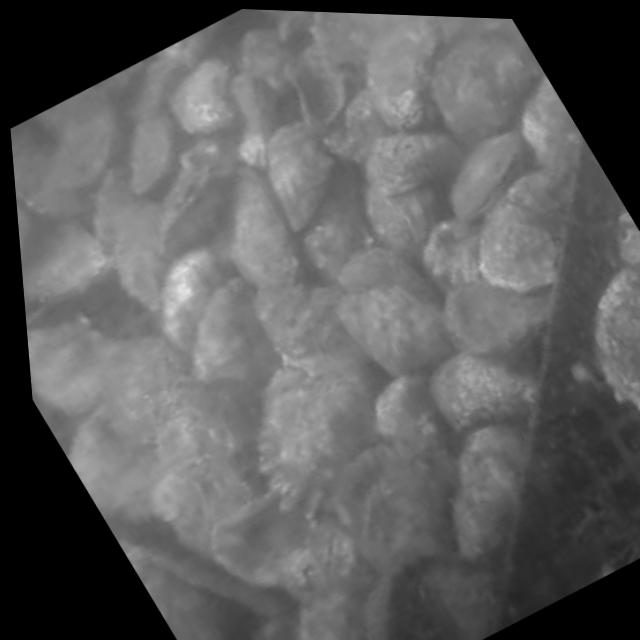Oyster-Closed: (450, 129, 543, 225), (360, 579, 417, 640)
Oyster-Indeterminate: (263, 353, 394, 504), (27, 307, 191, 427), (331, 438, 453, 577), (212, 488, 358, 588), (69, 401, 188, 520), (192, 282, 284, 429), (151, 449, 269, 559), (455, 422, 535, 579), (478, 166, 574, 296), (255, 267, 371, 374), (93, 171, 168, 330), (232, 169, 317, 308), (435, 34, 544, 137), (340, 285, 460, 378), (13, 115, 116, 219), (156, 380, 262, 479), (25, 65, 141, 155), (162, 142, 239, 266), (367, 179, 454, 288), (392, 554, 502, 640), (300, 159, 379, 278), (161, 248, 245, 359), (314, 12, 435, 89), (129, 557, 239, 640), (445, 276, 555, 358), (434, 354, 537, 437), (22, 219, 116, 308), (369, 18, 439, 131), (373, 368, 456, 460), (368, 127, 466, 202), (338, 242, 444, 311), (232, 65, 312, 153), (594, 261, 640, 413), (268, 140, 334, 232), (169, 59, 245, 138), (318, 92, 395, 169), (521, 75, 584, 162), (130, 45, 204, 119), (423, 211, 487, 296), (131, 113, 183, 209), (239, 25, 305, 92), (183, 9, 256, 68), (298, 591, 376, 640), (263, 10, 325, 55), (606, 197, 640, 267), (429, 16, 494, 45), (10, 125, 36, 174)
Oyster-Open: (292, 46, 356, 144), (22, 275, 54, 335)
